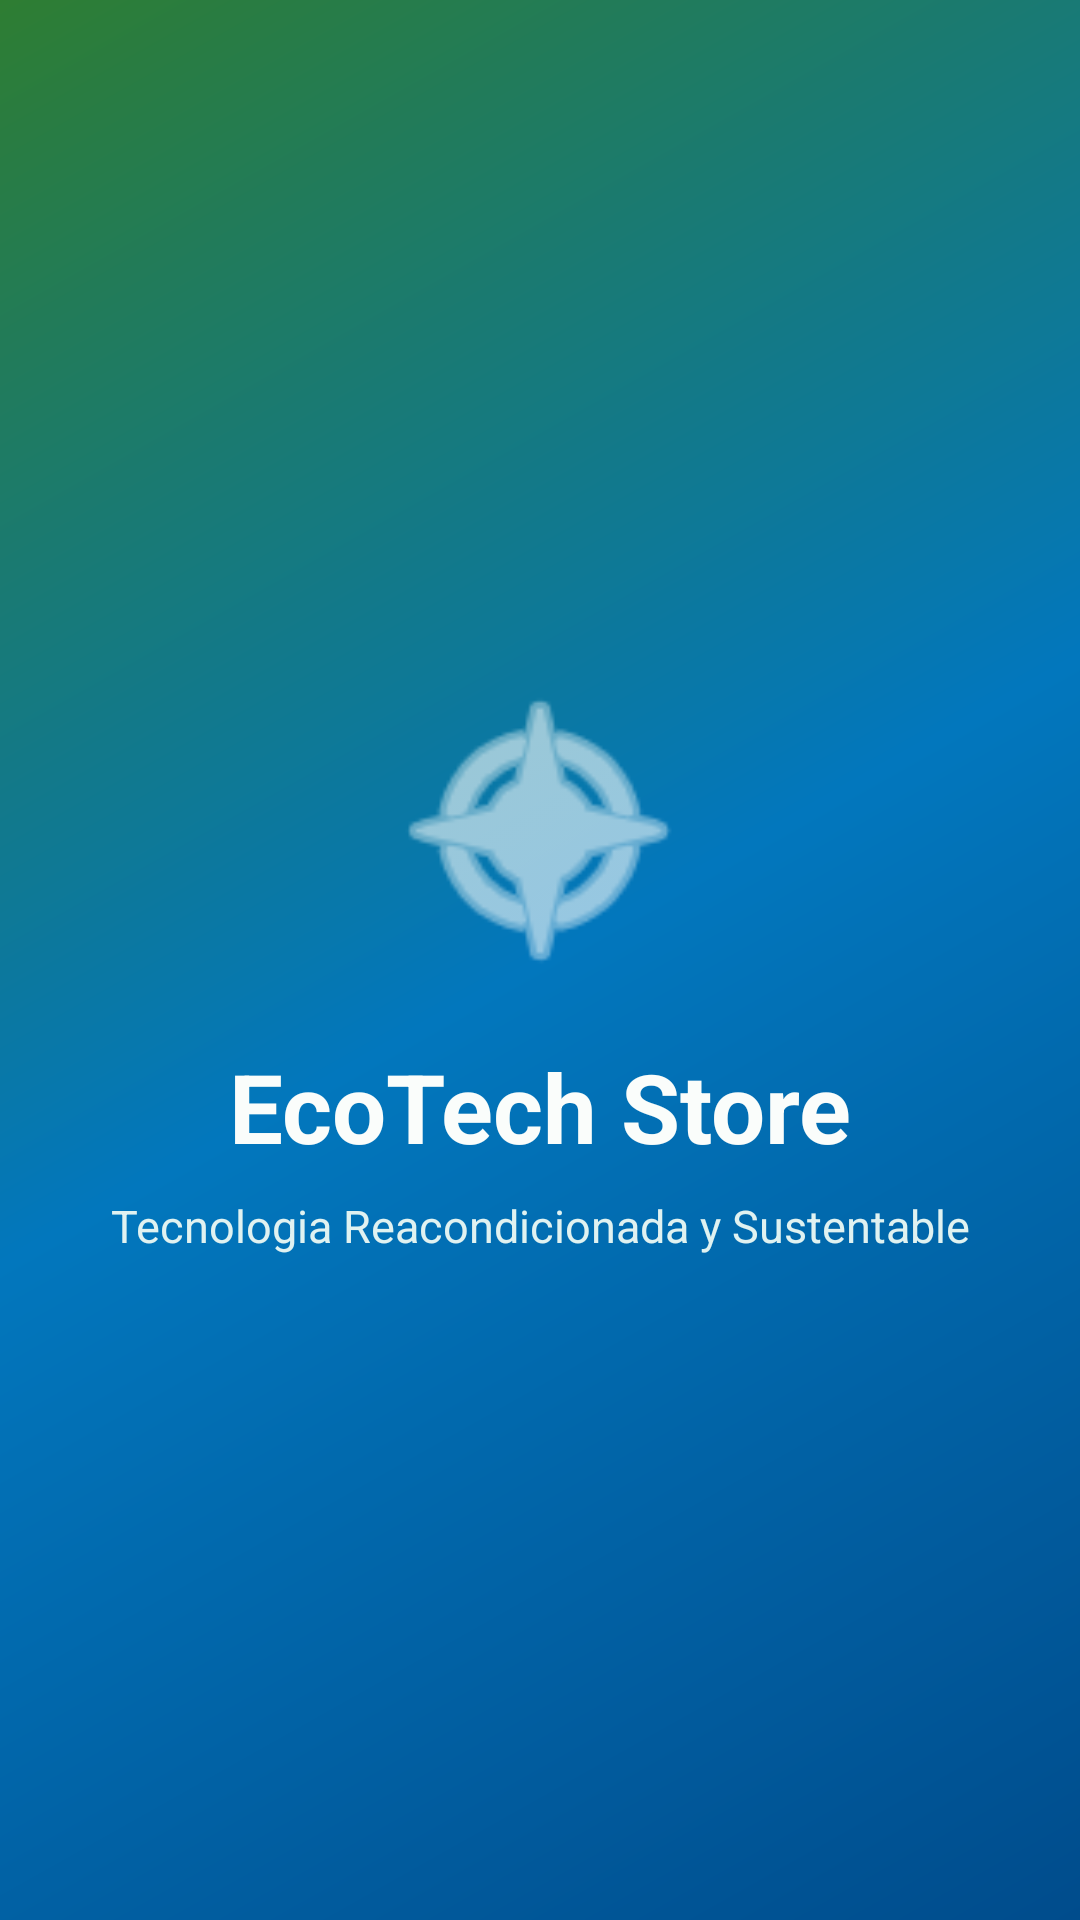

Named icons in this screenshot (1080px x 1920px) and their centers, (x=x, y=y):
compass: (x=522, y=812)
